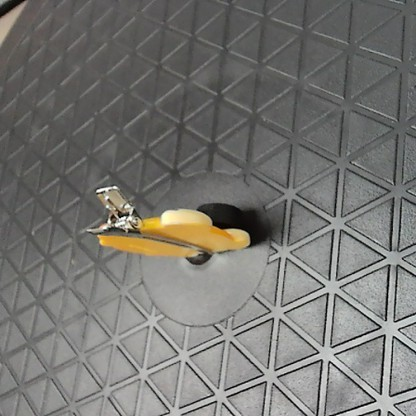dogclip: (80, 183, 249, 262)
